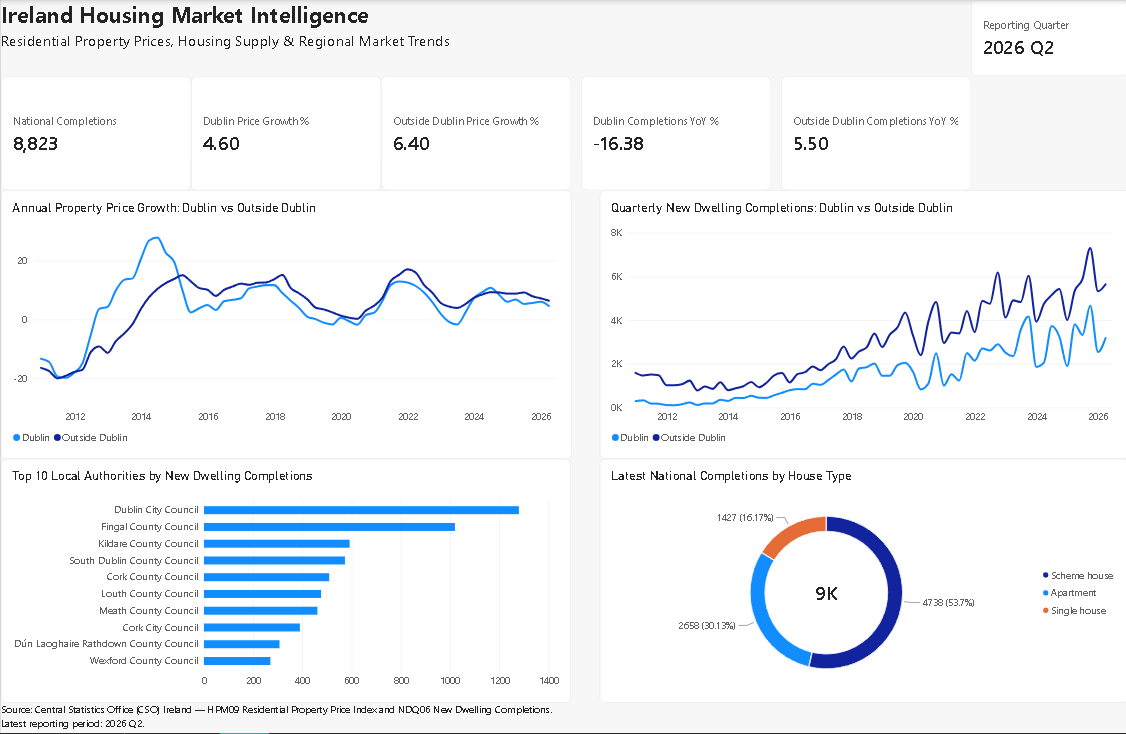

The dashboard page shown, as its layout file describes it:
{"tool":"powerbi","page":{"name":"Page 1","canvas":[1920,1080],"ordinal":0},"visuals":[{"type":"cardVisual","title":"Latest National Completions","fields":{"Data":["market_intelligence_quarterly.Latest National Completions"]},"box":[0,112,280,168],"z":0},{"type":"cardVisual","title":"Latest Dublin Price Growth %","fields":{"Data":["market_intelligence_quarterly.Latest Dublin Price Growth %"]},"box":[280,112,280,168],"z":1000},{"type":"cardVisual","title":"Latest Non-Dublin Price Growth %","fields":{"Data":["market_intelligence_quarterly.Latest Non-Dublin Price Growth %"]},"box":[560,112,280,168],"z":2000},{"type":"cardVisual","title":"Dublin Completions YoY %","fields":{"Data":["market_intelligence_quarterly.Latest Dublin Completions YoY %"]},"box":[854,112,280,168],"z":3000},{"type":"lineChart","title":"Annual Property Price Growth: Dublin vs Outside Dublin","fields":{"Category":["market_intelligence_quarterly.Quarter Start"],"Y":["Avg(market_intelligence_quarterly.dublin_price_growth_pct)","Avg(market_intelligence_quarterly.non_dublin_price_growth_pct)"]},"box":[0,280,840,396],"z":4000},{"type":"lineChart","title":"Quarterly New Dwelling Completions: Dublin vs Outside Dublin","fields":{"Category":["market_intelligence_quarterly.Quarter Start"],"Y":["Sum(market_intelligence_quarterly.dublin_completions)","Sum(market_intelligence_quarterly.non_dublin_completions)"]},"box":[882,280,778,396],"z":5000},{"type":"barChart","title":"Top 10 Local Authorities by New Dwelling Completions","fields":{"Category":["local_authority_completions.local_authority"],"Y":["local_authority_completions.Latest Local Authority Completions"]},"box":[0,675.5,839.3,358.9],"z":6000},{"type":"donutChart","title":"Latest National Completions by House Type","fields":{"Category":["national_house_type_completions.house_type"],"Y":["national_house_type_completions.Latest House Type Completions"]},"box":[881.6,675.5,778.5,358.9],"z":7000},{"type":"cardVisual","title":"Non-Dublin Completions YoY %","fields":{"Data":["market_intelligence_quarterly.Latest Non-Dublin Completions YoY %"]},"box":[1148,112,280,168],"z":8000},{"type":"cardVisual","title":"Latest Reporting Quarter","fields":{"Data":["market_intelligence_quarterly.Latest Quarter Label"]},"box":[1428.2,0,231.9,112.3],"z":9000},{"type":"textbox","box":[0,0,784,96],"z":10000},{"type":"textbox","box":[1650,112,270,168],"z":10001},{"type":"textbox","box":[0,1034.4,1660.1,46],"z":10002}]}

Visuals, with their boxes on the page's 1920x1080 design canvas (x1, y1, x2, y2). These are canvas units, not pixel positions in the 1126x734 screenshot, which may show the page scaled, cropped or inside an application window:
"Latest National Completions" cardVisual: bbox=(0, 112, 280, 280)
"Latest Dublin Price Growth %" cardVisual: bbox=(280, 112, 560, 280)
"Latest Non-Dublin Price Growth %" cardVisual: bbox=(560, 112, 840, 280)
"Dublin Completions YoY %" cardVisual: bbox=(854, 112, 1134, 280)
"Annual Property Price Growth: Dublin vs Outside Dublin" lineChart: bbox=(0, 280, 840, 676)
"Quarterly New Dwelling Completions: Dublin vs Outside Dublin" lineChart: bbox=(882, 280, 1660, 676)
"Top 10 Local Authorities by New Dwelling Completions" barChart: bbox=(0, 676, 839, 1034)
"Latest National Completions by House Type" donutChart: bbox=(882, 676, 1660, 1034)
"Non-Dublin Completions YoY %" cardVisual: bbox=(1148, 112, 1428, 280)
"Latest Reporting Quarter" cardVisual: bbox=(1428, 0, 1660, 112)
textbox: bbox=(0, 0, 784, 96)
textbox: bbox=(1650, 112, 1920, 280)
textbox: bbox=(0, 1034, 1660, 1080)
